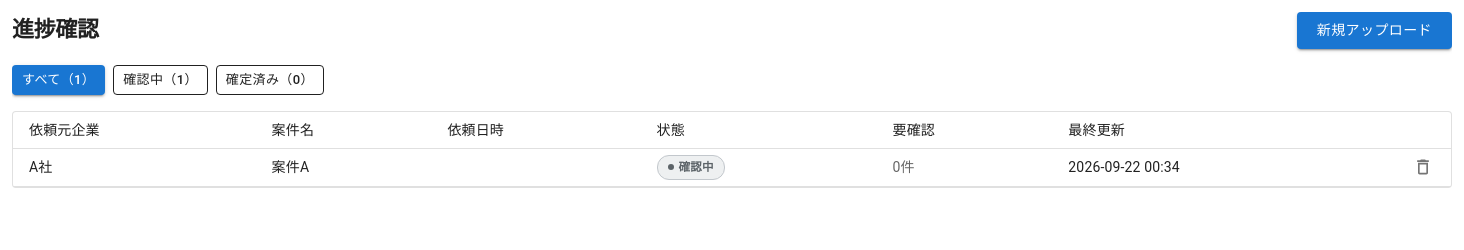
InquiryListPage › shows the filtered-empty state without a CTA when a filter yields zero results
The width and height of the screenshot is (1464, 250).
Click the button "確定済み（0）": (270,80) 216,64 -> 324,95
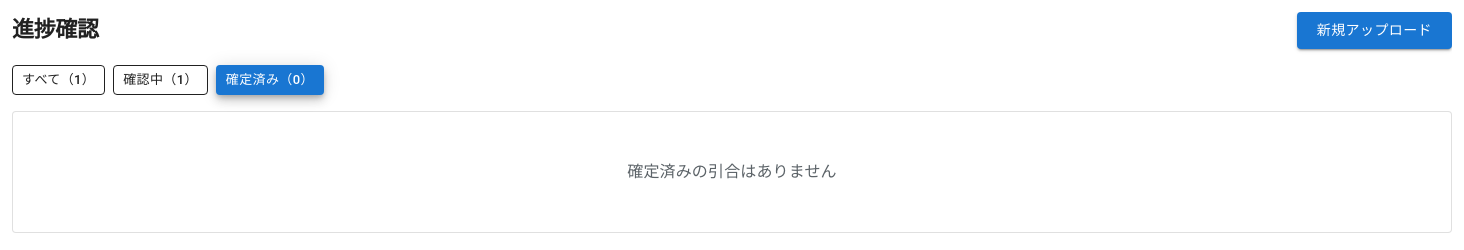
Expected: the text "確定済みの引合はありません" is shown, 627,162 -> 837,181
